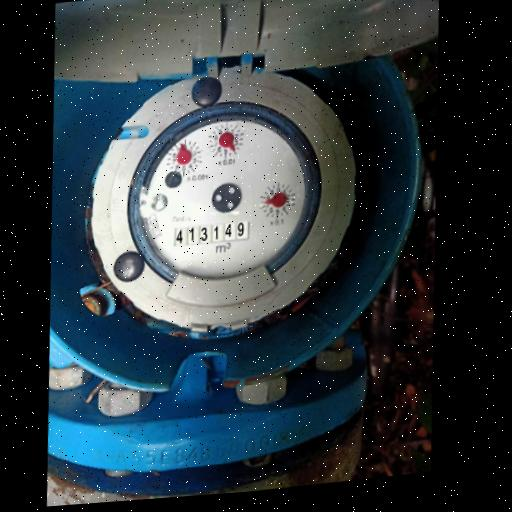1: (187, 225, 200, 244), (210, 223, 223, 241)
3: (199, 225, 211, 243)
4: (174, 227, 188, 245), (223, 223, 237, 240)
9: (236, 221, 249, 239)
border_water_meter_number: (172, 218, 251, 247)
